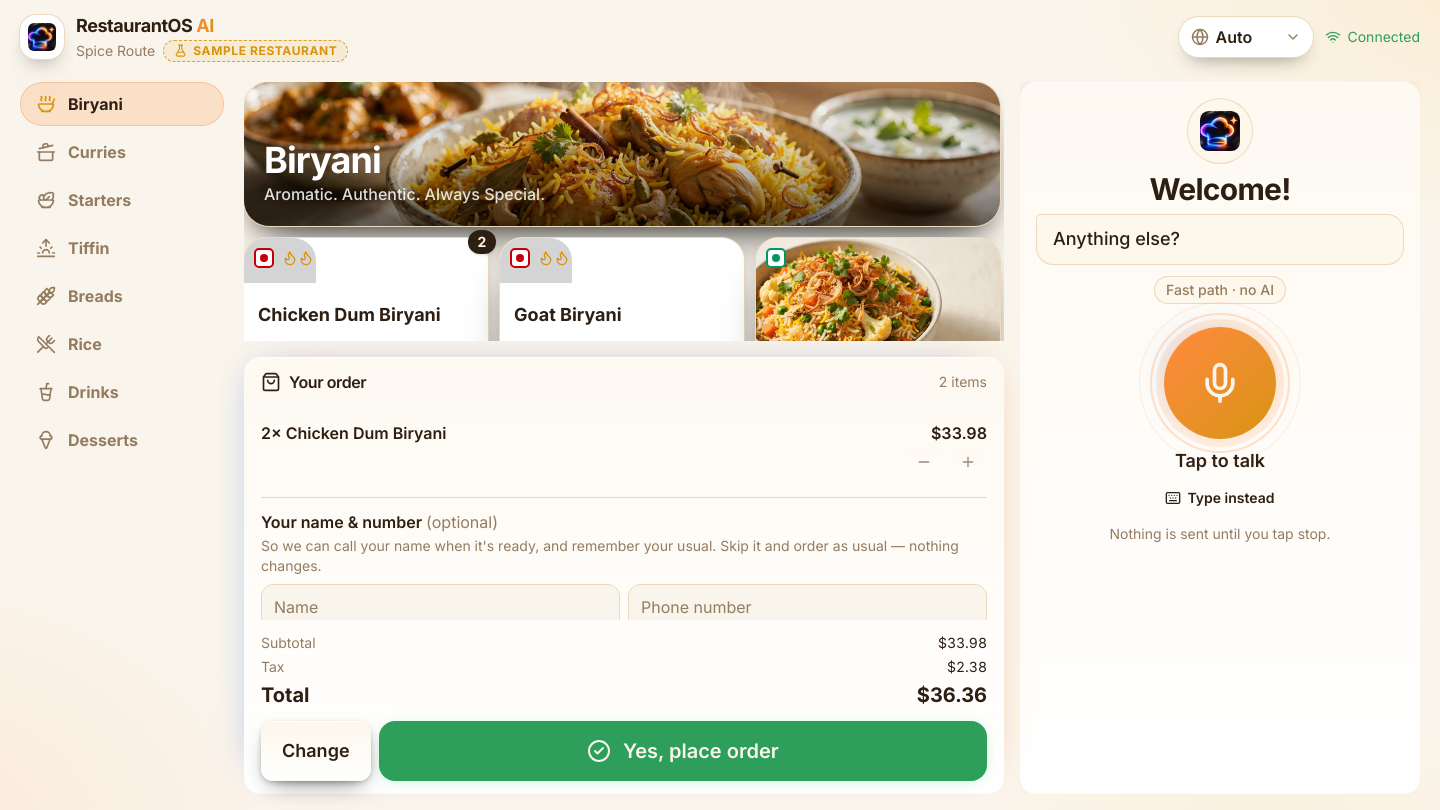
Scenario: a "Yes, place order" whose answer was lost: the placed order shows from the feed
The width and height of the screenshot is (1440, 810).
Click the button "Yes, place order" at (683,751), box [378,721,987,781]
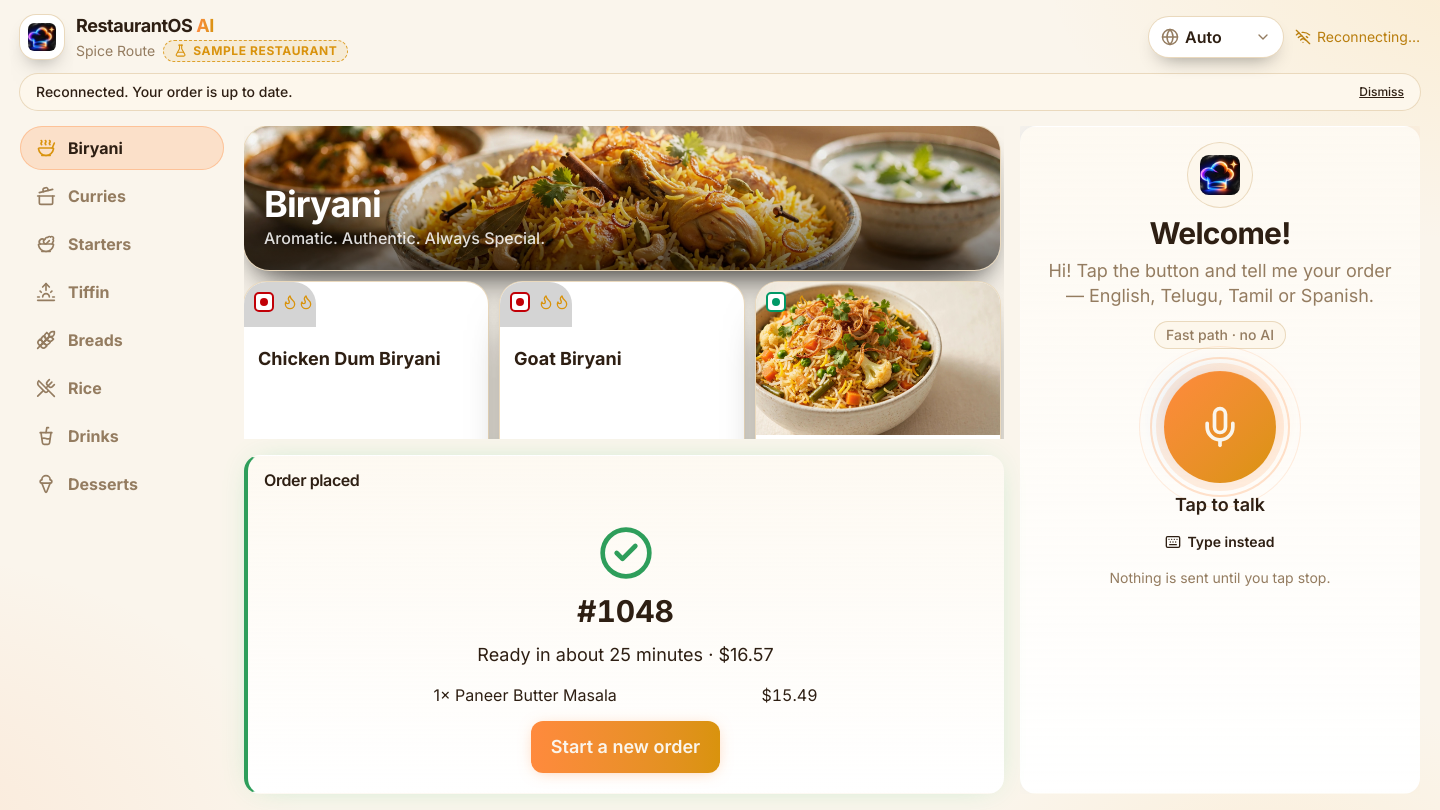
Check: the heading "Order placed" is shown, box [264,468,360,492]
Check: the text "#1048" is shown, box [577,593,674,629]
Check: the button "place order" is gone
